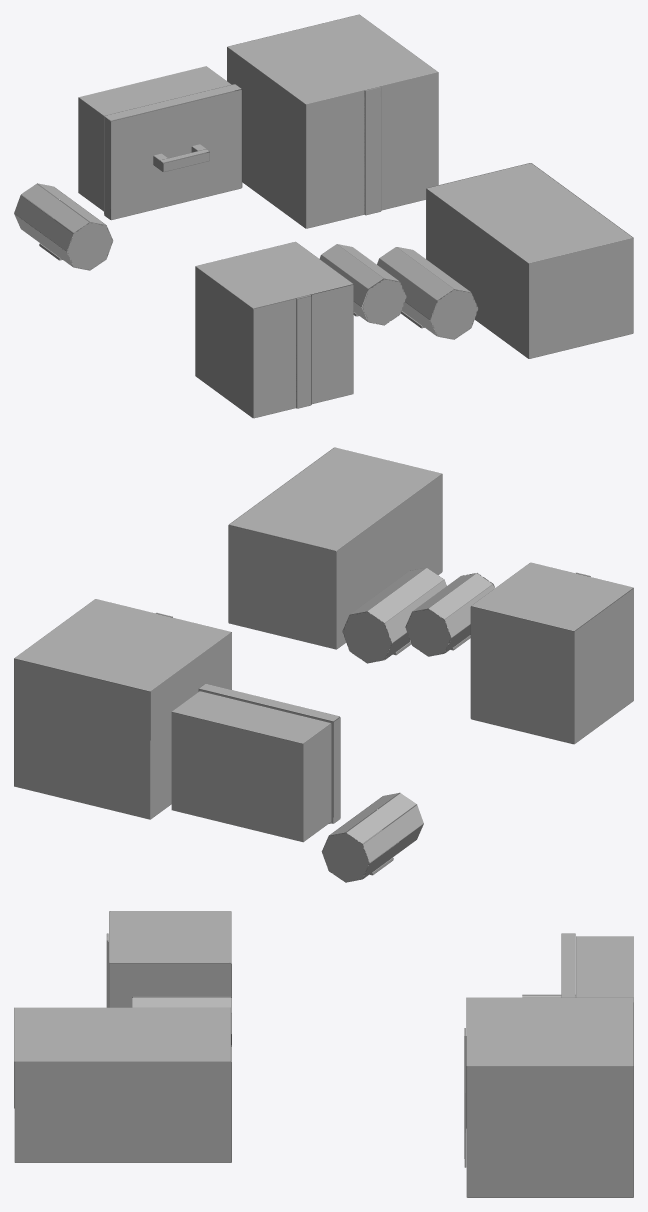
The model's file is contents_books_misc_01_50.obj.
The picture shows the model from 3 angles, top to bottom: view 1: azimuth 30°, elevation 25°; view 2: azimuth 150°, elevation 25°; view 3: azimuth 270°, elevation 25°; orthographic projection. The views are drawn at different scales.
Visible parts, largest first — view 1: contents_books_misc_01_50; view 2: contents_books_misc_01_50; view 3: contents_books_misc_01_50.
Part boxes in pixels (x1,y1,x2,y2): contents_books_misc_01_50: [14, 14, 633, 418]; contents_books_misc_01_50: [14, 447, 633, 882]; contents_books_misc_01_50: [14, 911, 633, 1197].
Bounding box in the file's own units: 0.775 × 0.292 × 1.11.
1 material, 1 textured.
